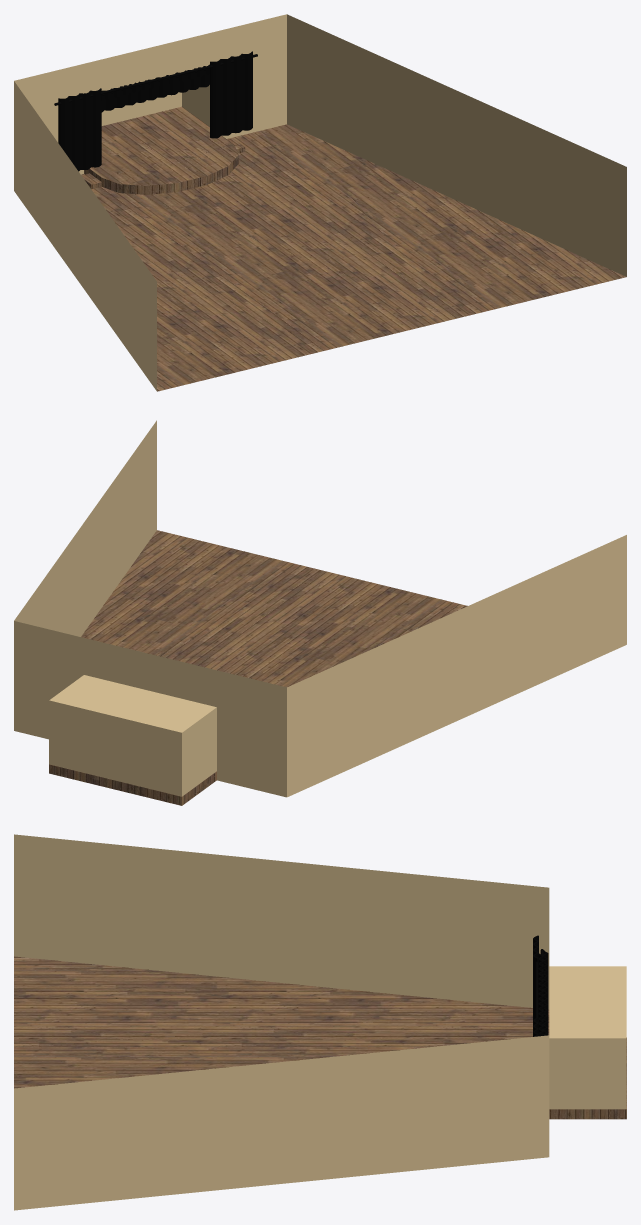
Rendered from Theatre texture.fbx.
3 views of the same model, one above another, from view 1: azimuth 30°, elevation 25°; view 2: azimuth 150°, elevation 25°; view 3: azimuth 270°, elevation 25° (orthographic). The views are drawn at different scales.
Parts seen in each view (by area): view 1: Floor, Walls1, Stage, Left_curtain1, Left_curtain, Curtains; view 2: Walls1, Floor, Stage; view 3: Walls1, Floor, Stage, Curtains.
Boxes of the visible parts, left/top/right/bottom form: Floor: left=81, top=124, right=626, bottom=391; Walls1: left=14, top=14, right=626, bottom=390; Stage: left=84, top=106, right=238, bottom=194; Left_curtain1: left=210, top=51, right=252, bottom=138; Left_curtain: left=58, top=88, right=101, bottom=171; Curtains: left=101, top=64, right=209, bottom=112; Walls1: left=14, top=420, right=626, bottom=797; Floor: left=81, top=530, right=467, bottom=687; Stage: left=49, top=764, right=216, bottom=805; Walls1: left=14, top=834, right=626, bottom=1210; Floor: left=14, top=956, right=549, bottom=1088; Stage: left=486, top=1037, right=626, bottom=1119; Curtains: left=538, top=950, right=548, bottom=1036.
Bounding box in the file's own units: 108 × 24.15 × 110.
Materials: 6 (1 with a texture image).
